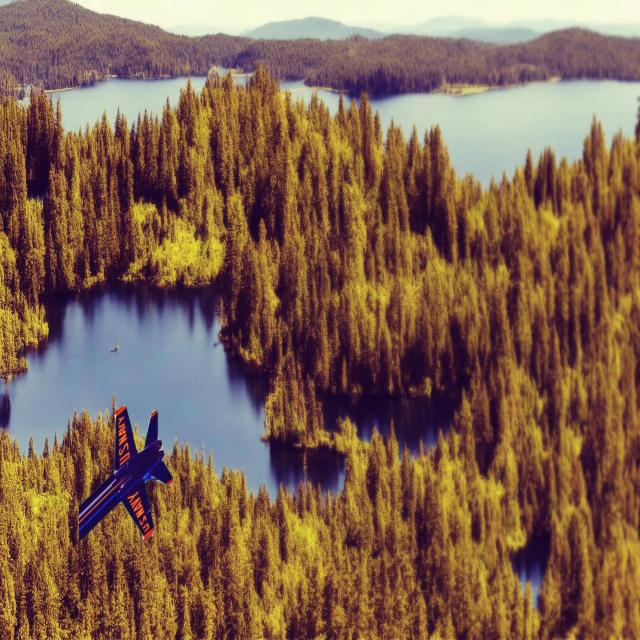airplane: (77, 404, 173, 544)
